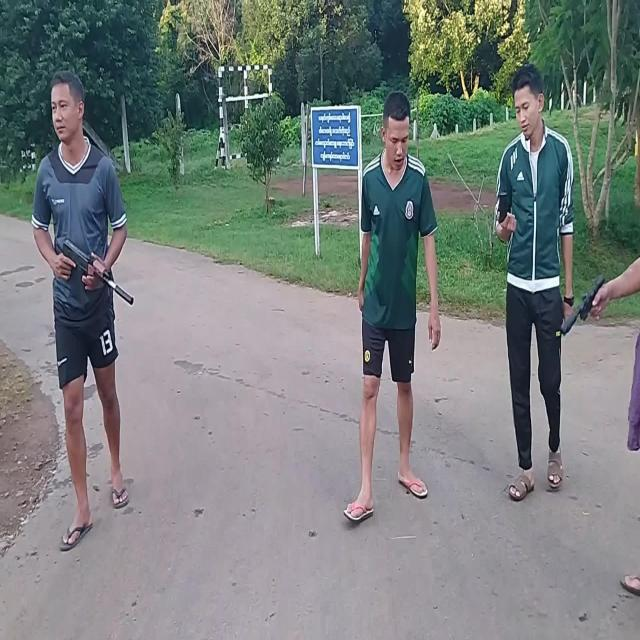gun: (63, 239, 134, 307)
